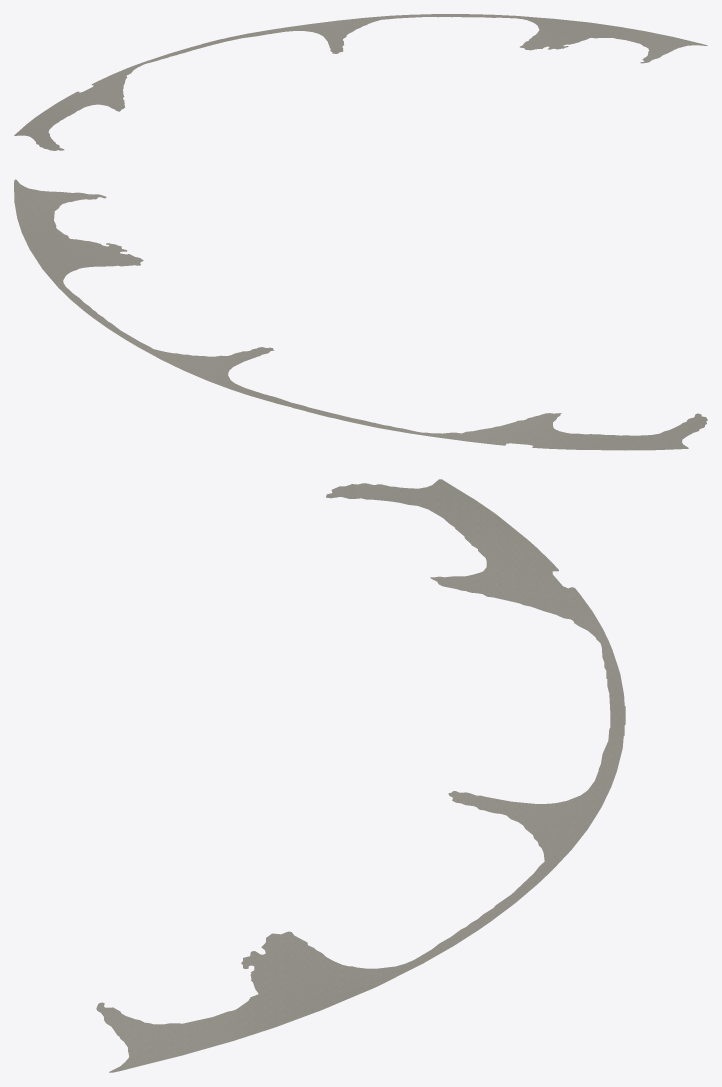
Rendered from path_01.gltf.
3 renders of one model, top to bottom at view 1: azimuth 30°, elevation 25°; view 2: azimuth 150°, elevation 25°; view 3: azimuth 270°, elevation 25°, orthographic. The views are drawn at different scales.
Parts seen in each view (by area): view 1: path_01.surface; view 2: path_01.surface; view 3: path_01.surface.
Boxes of the visible parts, box(x1,y1,x2,y2) form: path_01.surface: box(14, 14, 707, 150); path_01.surface: box(14, 179, 707, 450); path_01.surface: box(96, 479, 625, 1072).
Bounding box in the file's own units: 146 × 0.6589 × 54.9.
Materials: 1 (1 with a texture image).
